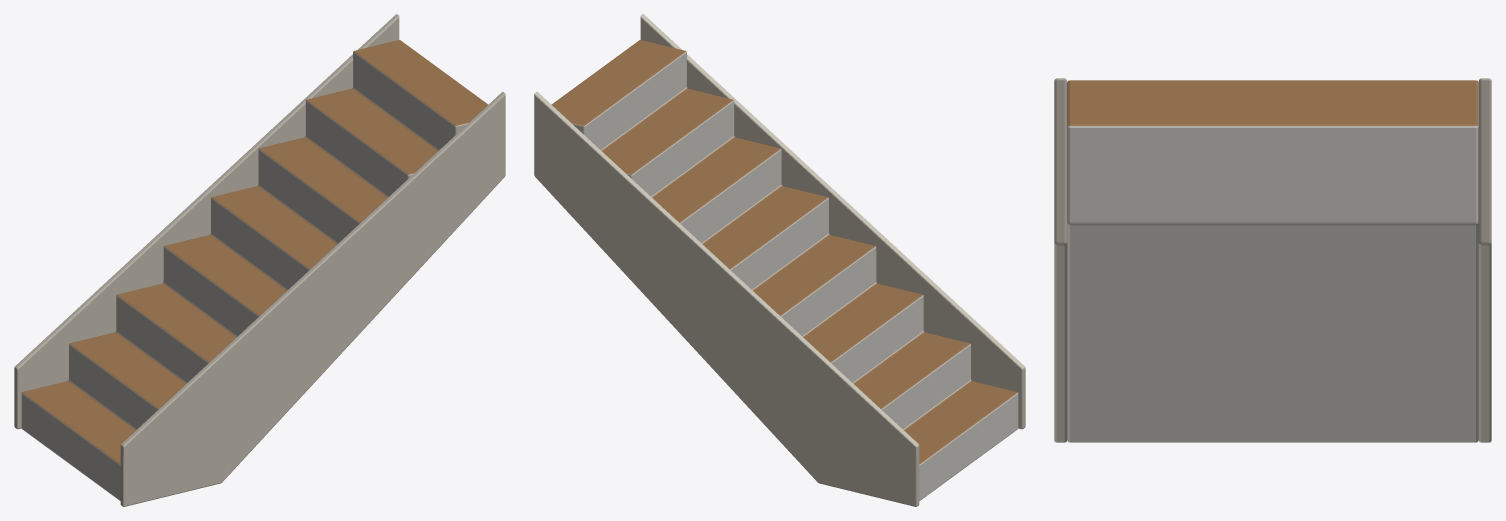
The model's file is SM_Kit_Stair_HalfFlight.glb.
3 renders of one model, left to right at view 1: azimuth 30°, elevation 25°; view 2: azimuth 150°, elevation 25°; view 3: azimuth 270°, elevation 25°, orthographic. The views are drawn at different scales.
Parts seen in each view (by area): view 1: SM_Kit_Stair_HalfFlight; view 2: SM_Kit_Stair_HalfFlight; view 3: SM_Kit_Stair_HalfFlight.
Boxes of the visible parts, x1,y1,x2,y2 form: SM_Kit_Stair_HalfFlight: [14, 14, 505, 506]; SM_Kit_Stair_HalfFlight: [534, 14, 1025, 506]; SM_Kit_Stair_HalfFlight: [1054, 78, 1491, 442].
Bounding box in the file's own units: 2.02 × 1.62 × 1.
